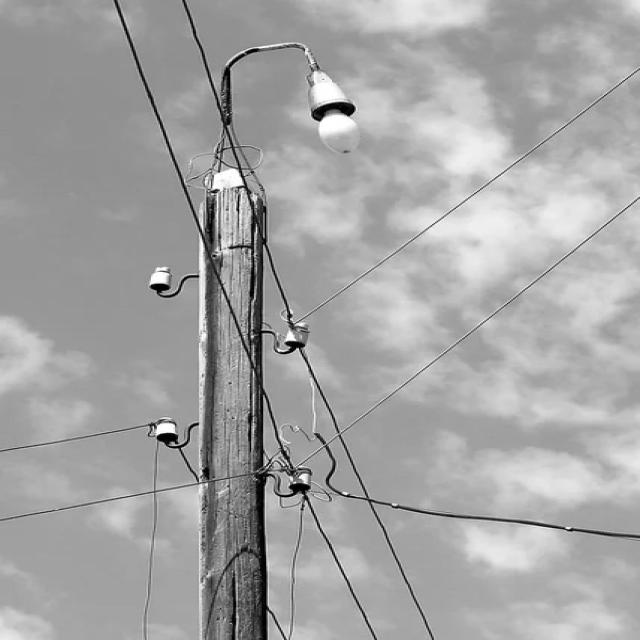Pole: (199, 186, 266, 640)
